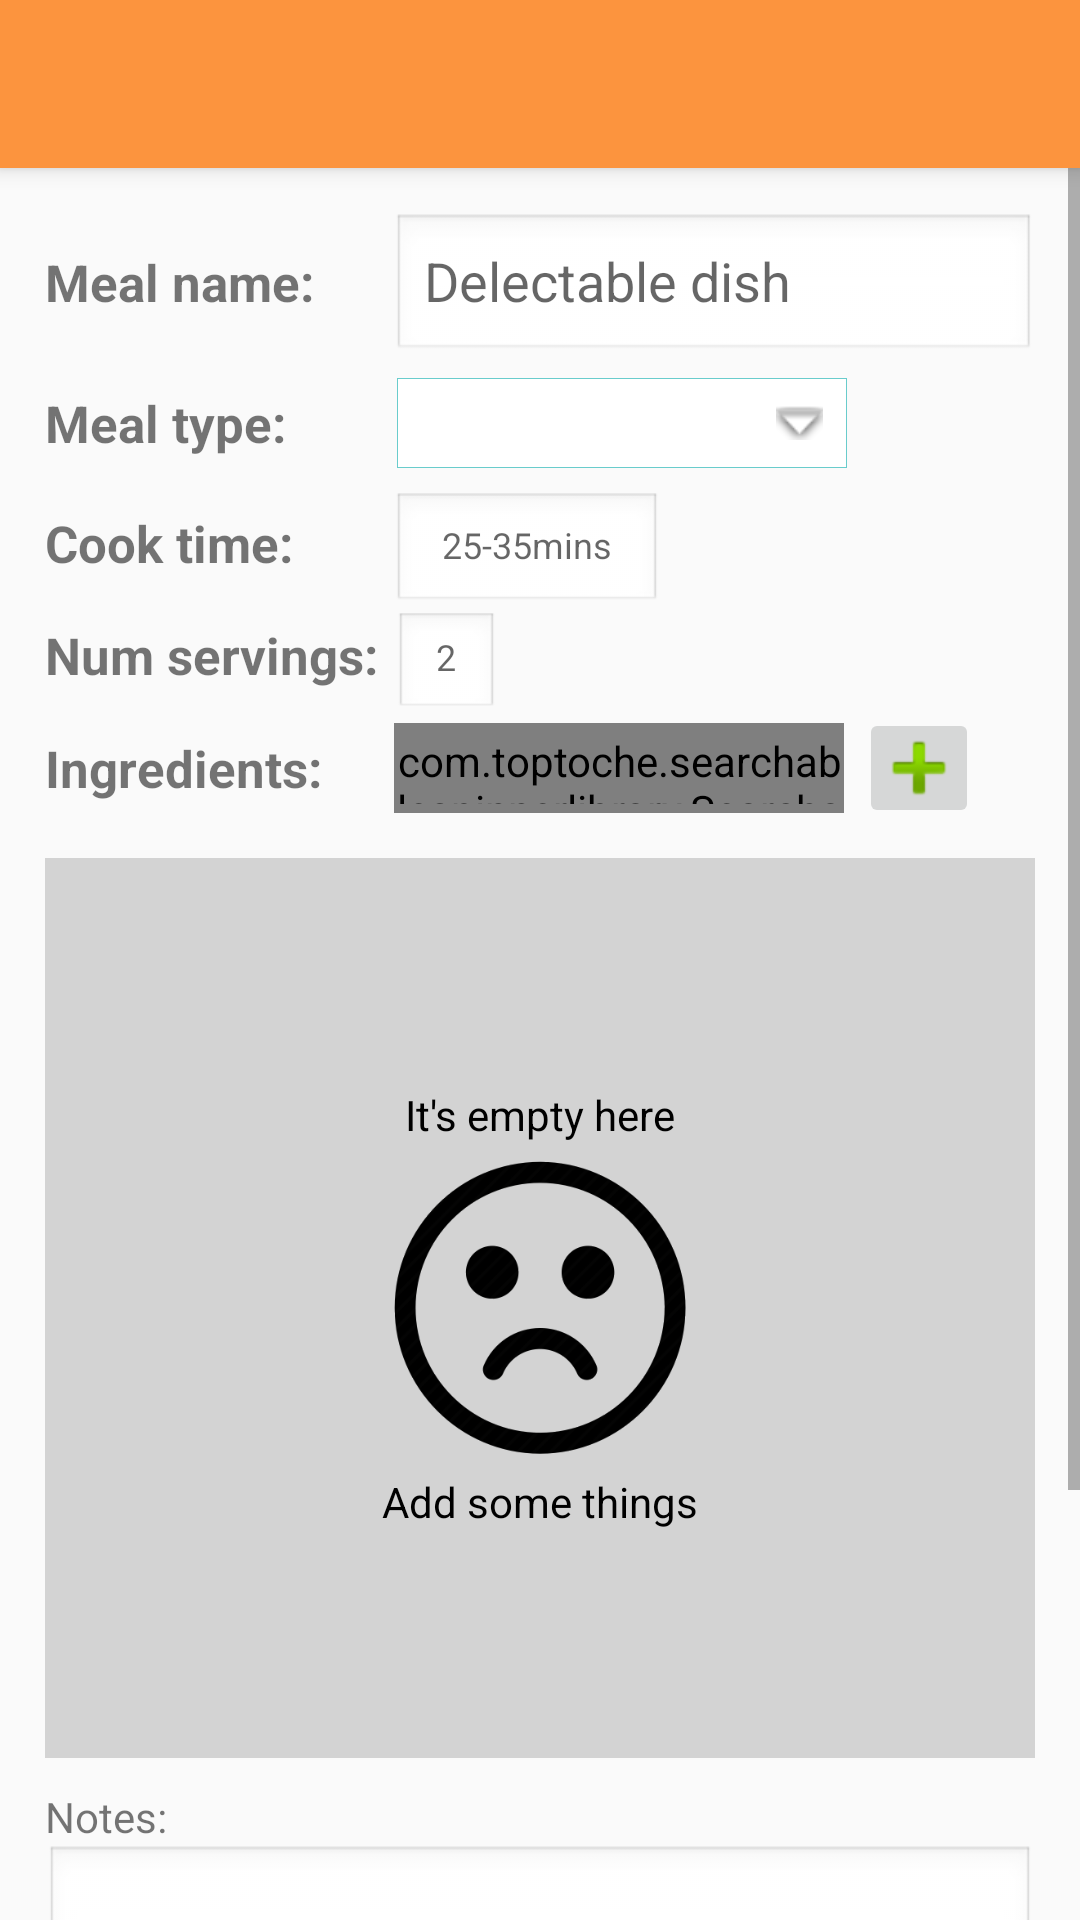

Where to tap for icons on this 1080 × 1920 app screen, as [x,y]:
add: [919,768]
sad face: [540,1307]
